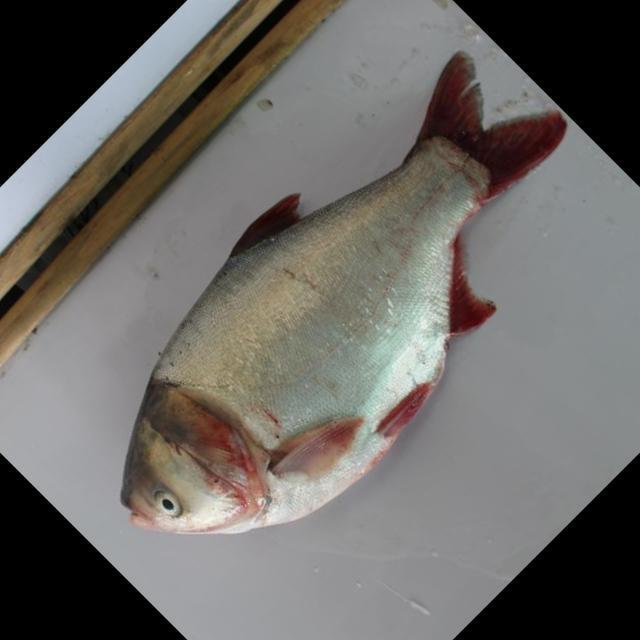SilverCarp: (152, 73, 555, 556)
